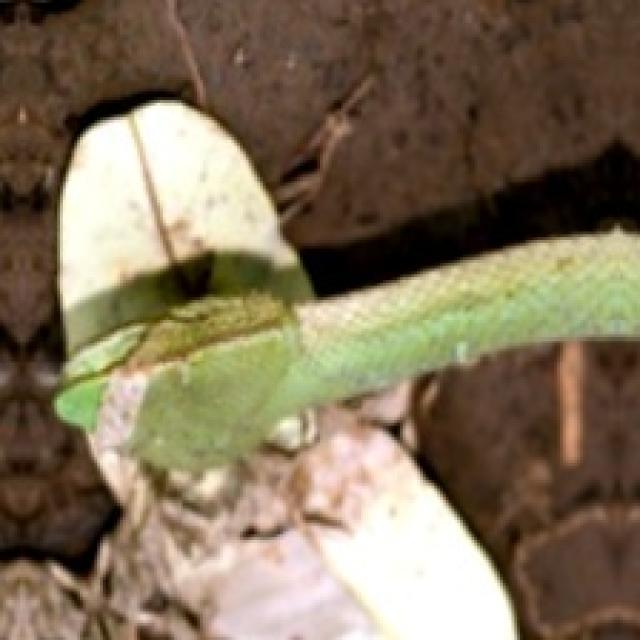north ph temple pitviper: (57, 100, 637, 469)
